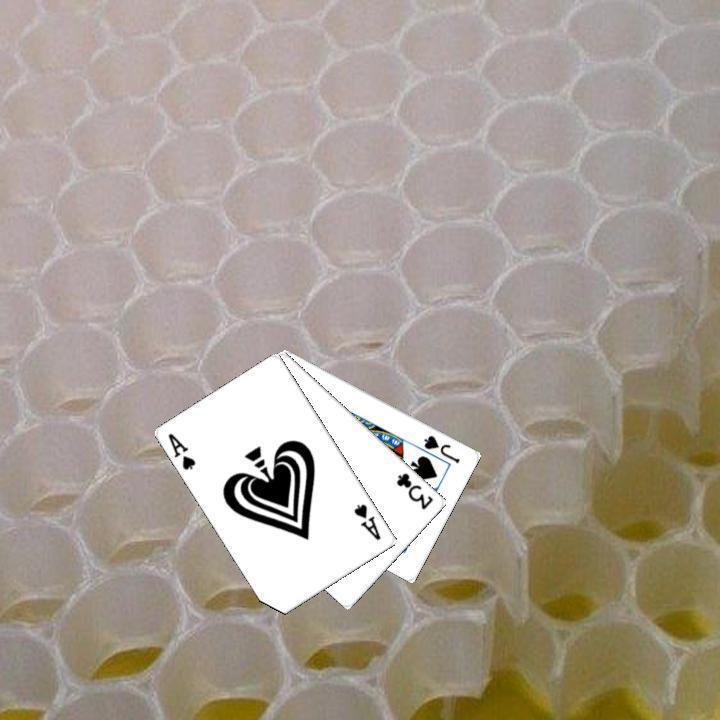3: (392, 468, 436, 512)
A: (164, 429, 198, 472), (350, 499, 383, 542)
J: (420, 431, 462, 465)
